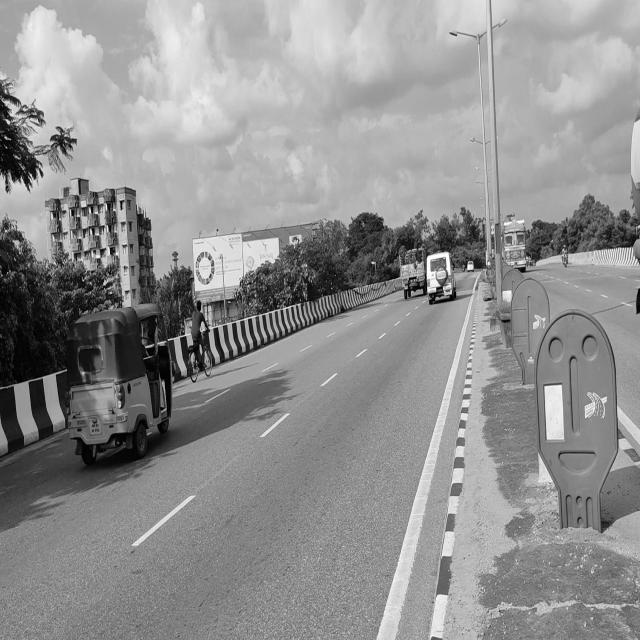car: (426, 243, 456, 306)
license-plate: (84, 407, 106, 437)
truck: (398, 249, 428, 306)
